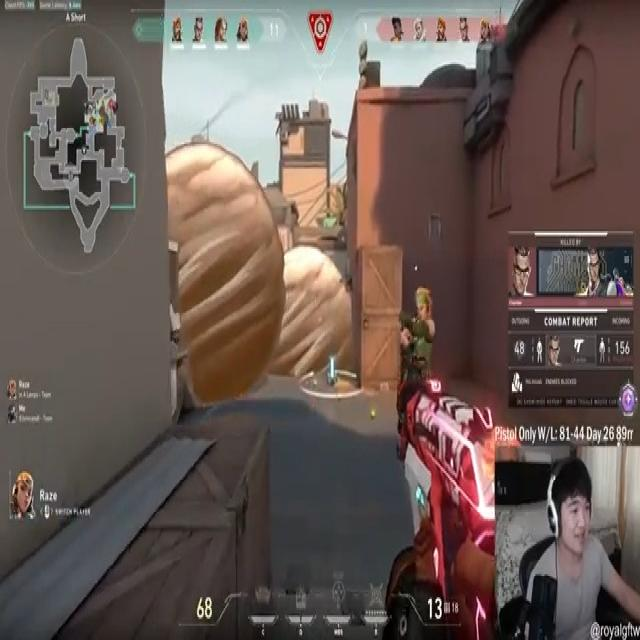ally: (396, 276, 439, 389)
smoke: (167, 140, 285, 405), (278, 244, 350, 388), (324, 354, 340, 392)
